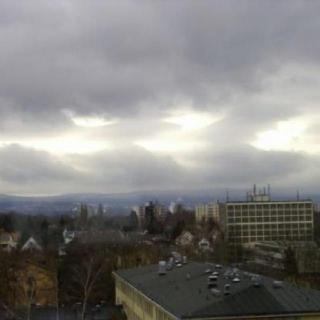Altocumulus: (0, 0, 320, 212)
